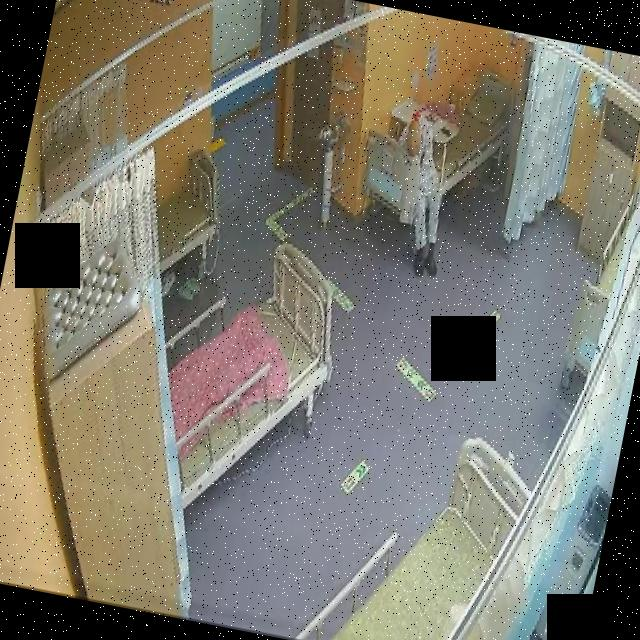bed: (146, 228, 348, 525), (295, 408, 540, 640), (354, 53, 520, 239), (144, 146, 232, 284)
patient: (373, 110, 468, 280)
sit: (374, 111, 467, 280)
